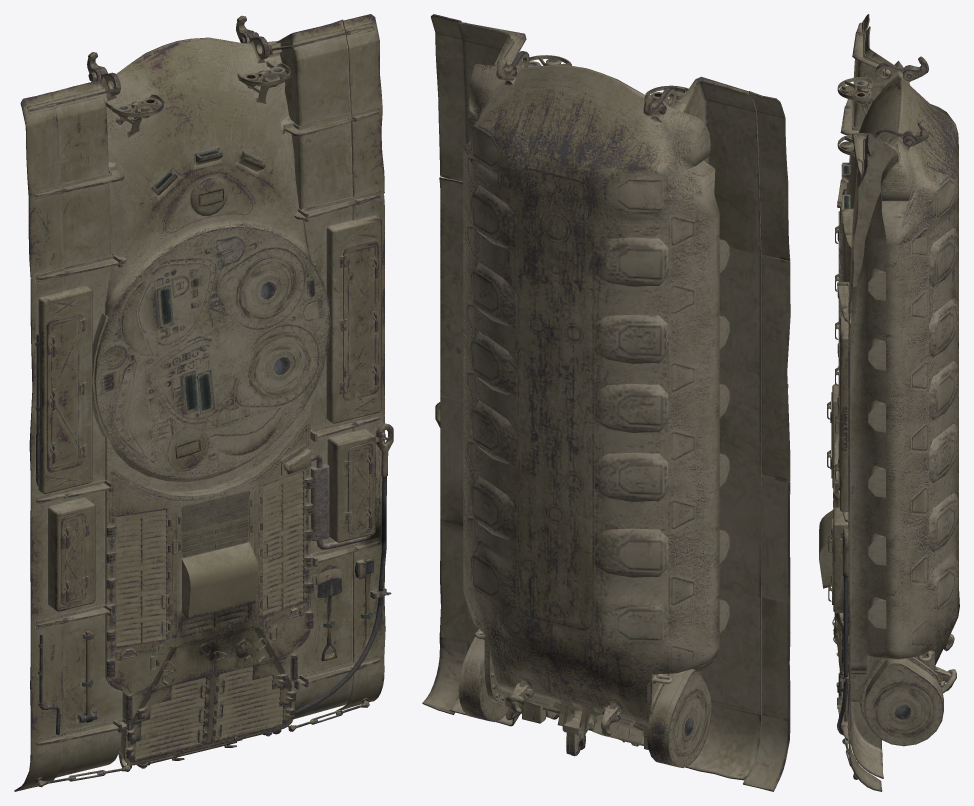
File: Hull.glb
The picture shows the model from 3 angles, left to right: view 1: azimuth 30°, elevation 25°; view 2: azimuth 150°, elevation 25°; view 3: azimuth 270°, elevation 25°; orthographic projection. The views are drawn at different scales.
Parts seen in each view (by area): view 1: set_0_group_0; view 2: set_0_group_0; view 3: set_0_group_0.
Boxes of the visible parts, left/top/right/bottom form: set_0_group_0: left=14, top=14, right=393, bottom=791; set_0_group_0: left=422, top=14, right=790, bottom=791; set_0_group_0: left=819, top=14, right=959, bottom=791.
Size of the model in its own units: 3.81 by 7.06 by 1.43.
Materials: 1 (1 with a texture image).
